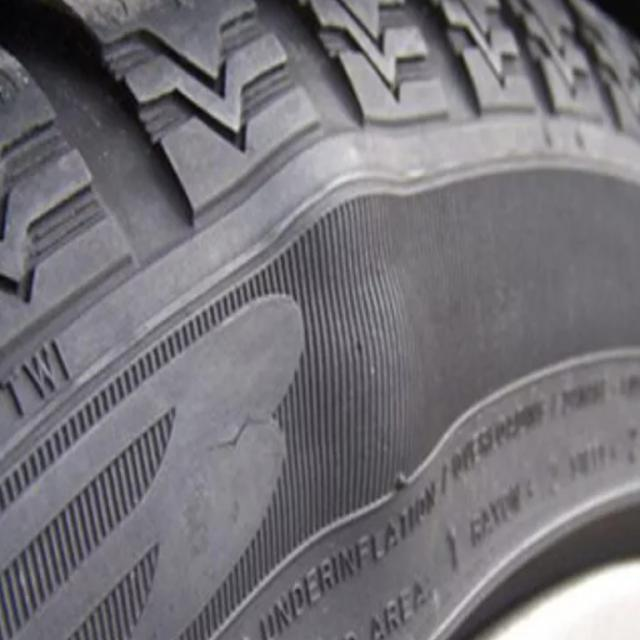Bulge: (254, 134, 452, 560)
